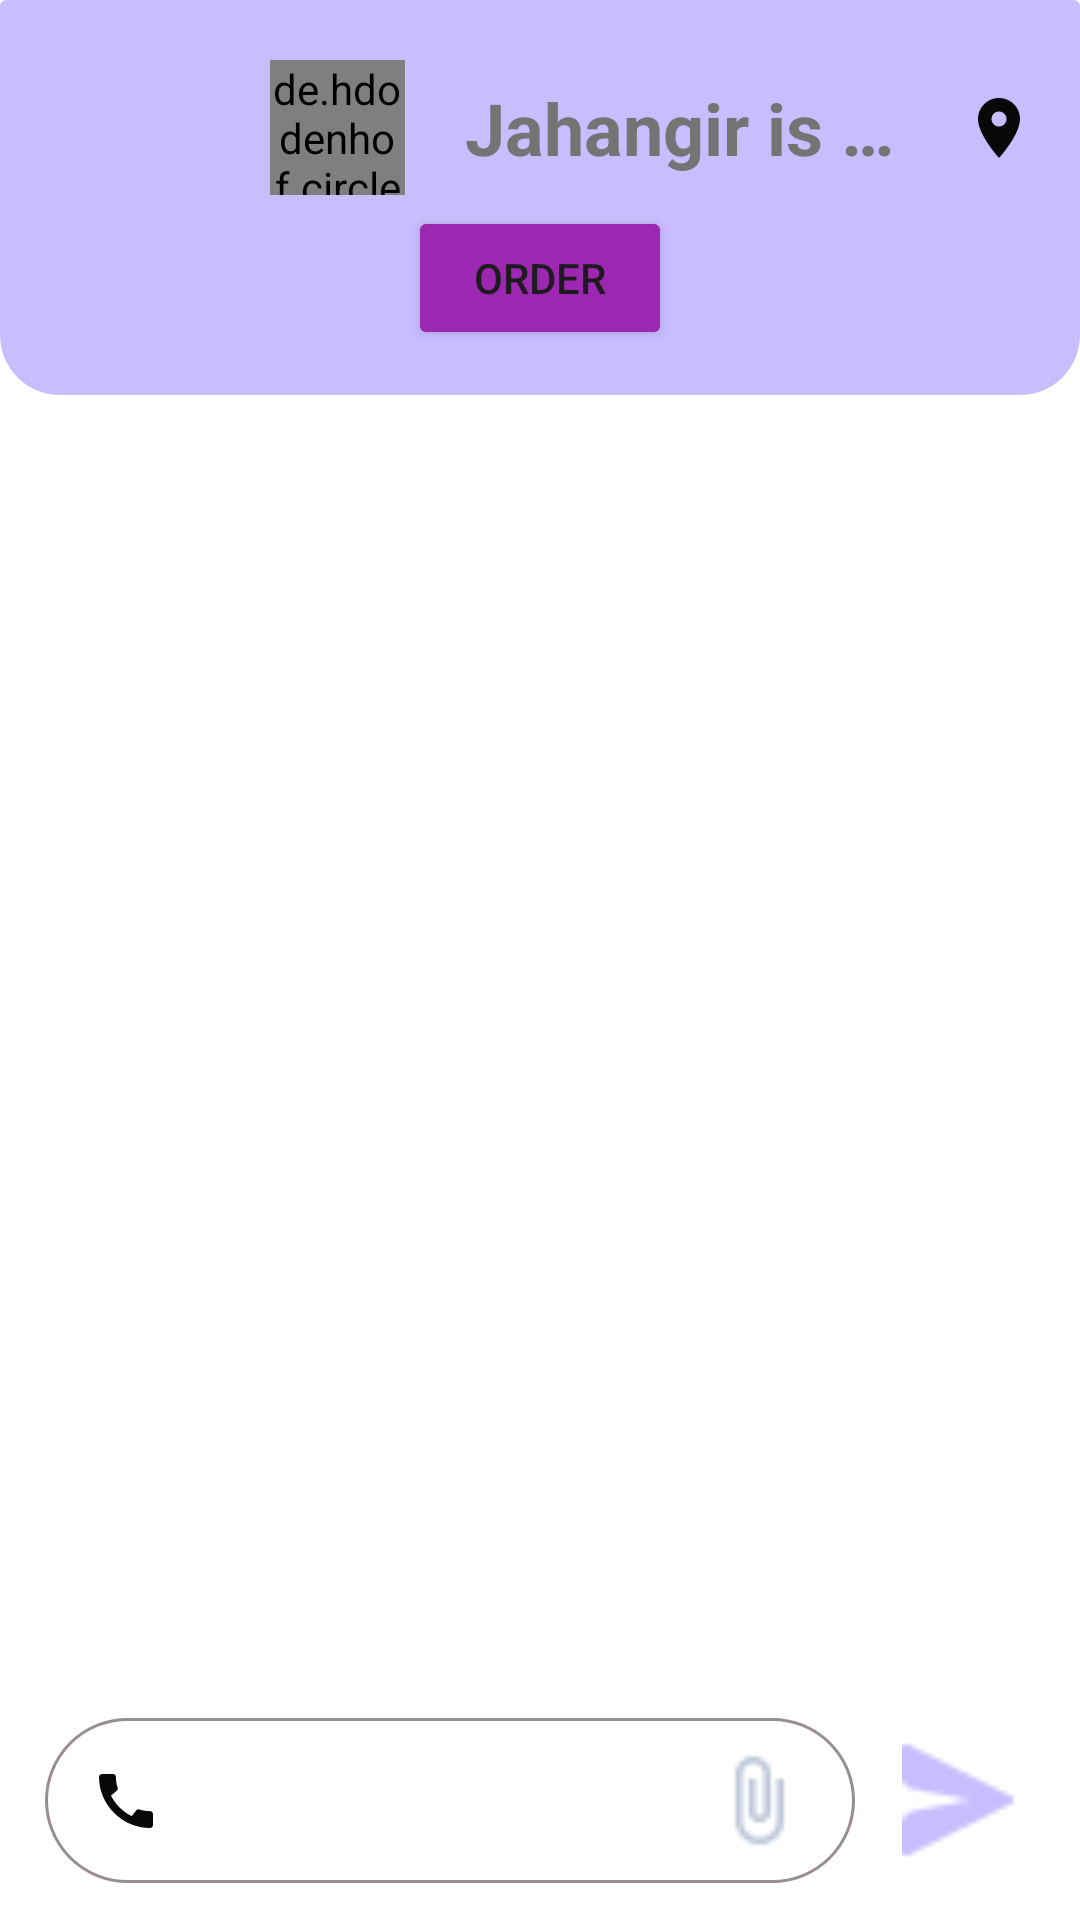

Icons on this 1080×1920 Android screen, each with its box as (x1, y1, x2, y2):
attachment: (735, 1756, 784, 1845)
call: (99, 1774, 153, 1828)
location on: (978, 98, 1020, 158)
send: (902, 1744, 1013, 1856)
